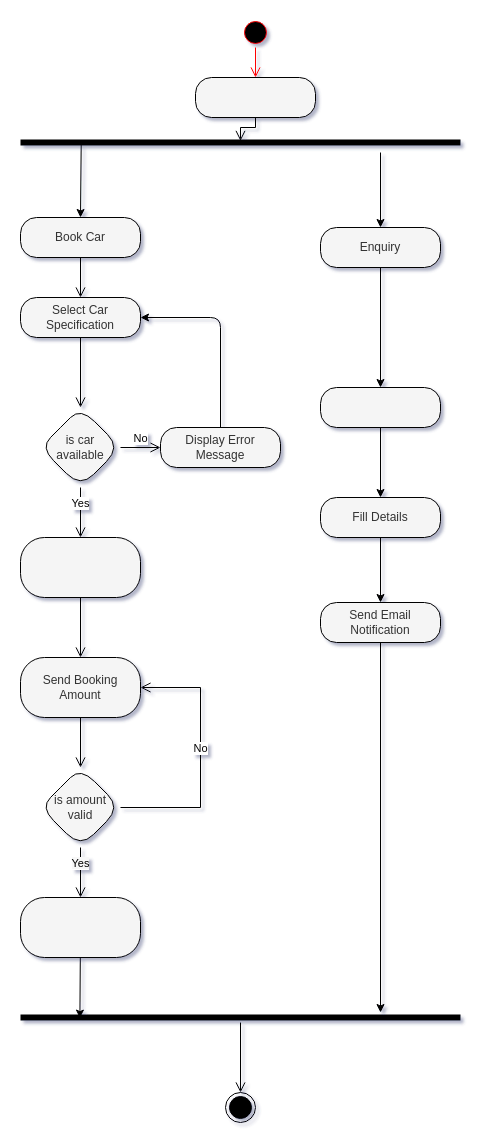
Image size: 486x1146. Some labels were removed from this diagram. The centre of each missing label's shape, as x and y in pixels:
"Open Email Form" belongs at point 380,407.
"Record Booking Detail" belongs at point 80,567.
"Send Email" belongs at point 80,927.
"Visit Website" belongs at point 255,97.
